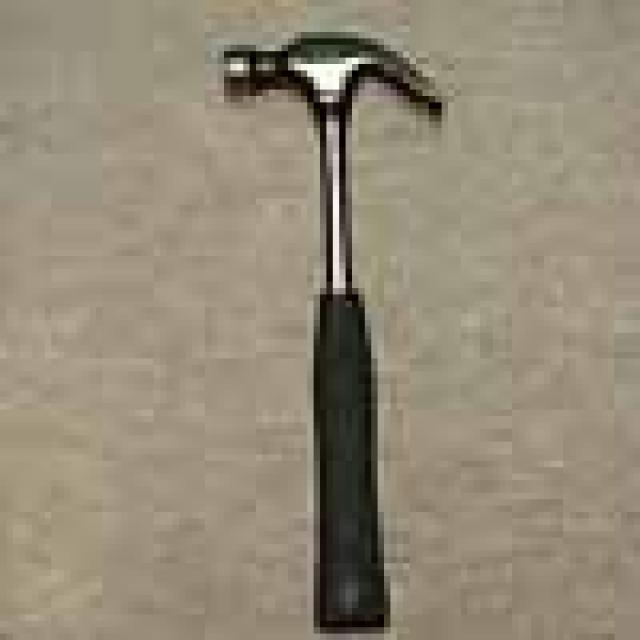hammer: (211, 23, 464, 632)
